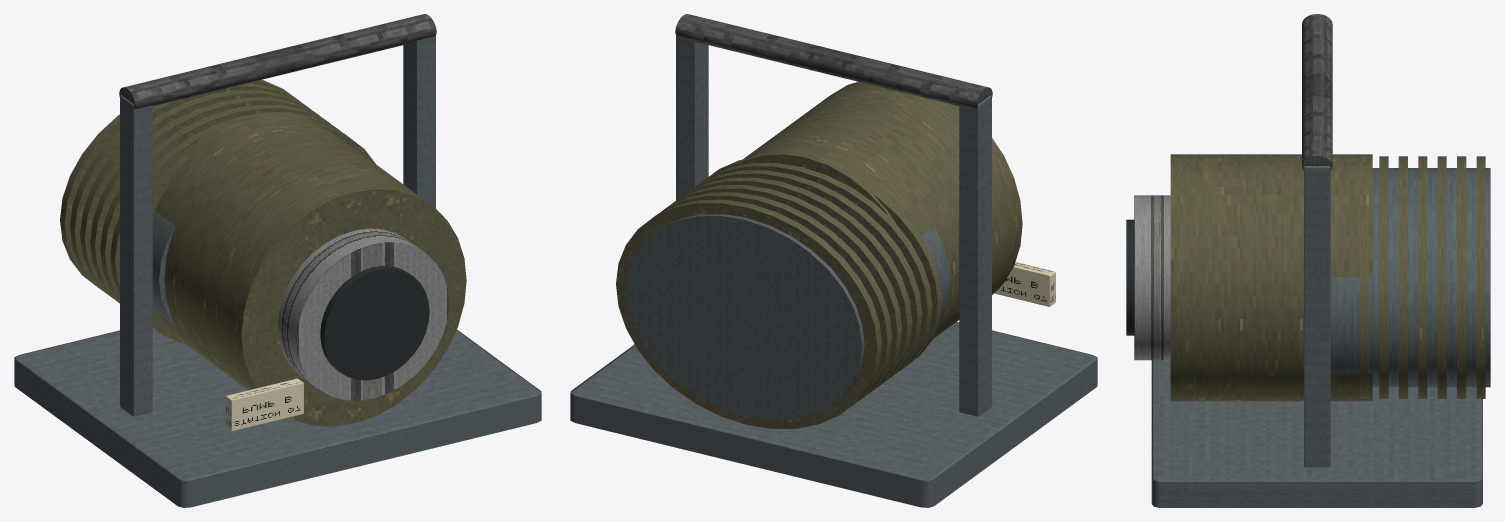
Rendered from pump-b.glb.
The picture shows the model from 3 angles, left to right: view 1: azimuth 30°, elevation 25°; view 2: azimuth 150°, elevation 25°; view 3: azimuth 270°, elevation 25°; orthographic projection. The views are drawn at different scales.
Parts seen in each view (by area): view 1: volute, skid, cooling-fin (×7), lifting-post (×2), flange, intake, lift-grip, id-plate, motor; view 2: skid, motor, cooling-fin (×7), volute, lifting-post (×2), lift-grip, id-plate; view 3: volute, skid, motor, cooling-fin (×7), lifting-post, flange, lift-grip, intake.
Part boxes in pixels (<box>): volute: <box>155,112,466,426</box>; skid: <box>14,328,541,507</box>; cooling-fin (×7): <box>60,79,375,344</box>; lifting-post (×2): <box>120,36,435,416</box>; flange: <box>277,228,448,400</box>; intake: <box>320,265,429,380</box>; lift-grip: <box>119,14,436,109</box>; id-plate: <box>225,378,303,431</box>; motor: <box>152,211,175,325</box>; skid: <box>570,322,1097,507</box>; motor: <box>626,214,950,419</box>; cooling-fin (×7): <box>616,159,942,428</box>; volute: <box>735,81,1022,338</box>; lifting-post (×2): <box>676,36,991,416</box>; lift-grip: <box>675,14,992,109</box>; id-plate: <box>994,261,1055,306</box>; volute: <box>1170,154,1372,401</box>; skid: <box>1151,360,1482,507</box>; motor: <box>1330,168,1490,387</box>; cooling-fin (×7): <box>1360,156,1485,398</box>; lifting-post: <box>1304,166,1330,467</box>; flange: <box>1134,195,1170,360</box>; lift-grip: <box>1302,14,1332,170</box>; intake: <box>1126,219,1134,335</box>.
Bounding box in the file's own units: 0.52 × 0.48 × 0.4684.
6 materials, 6 textured.
